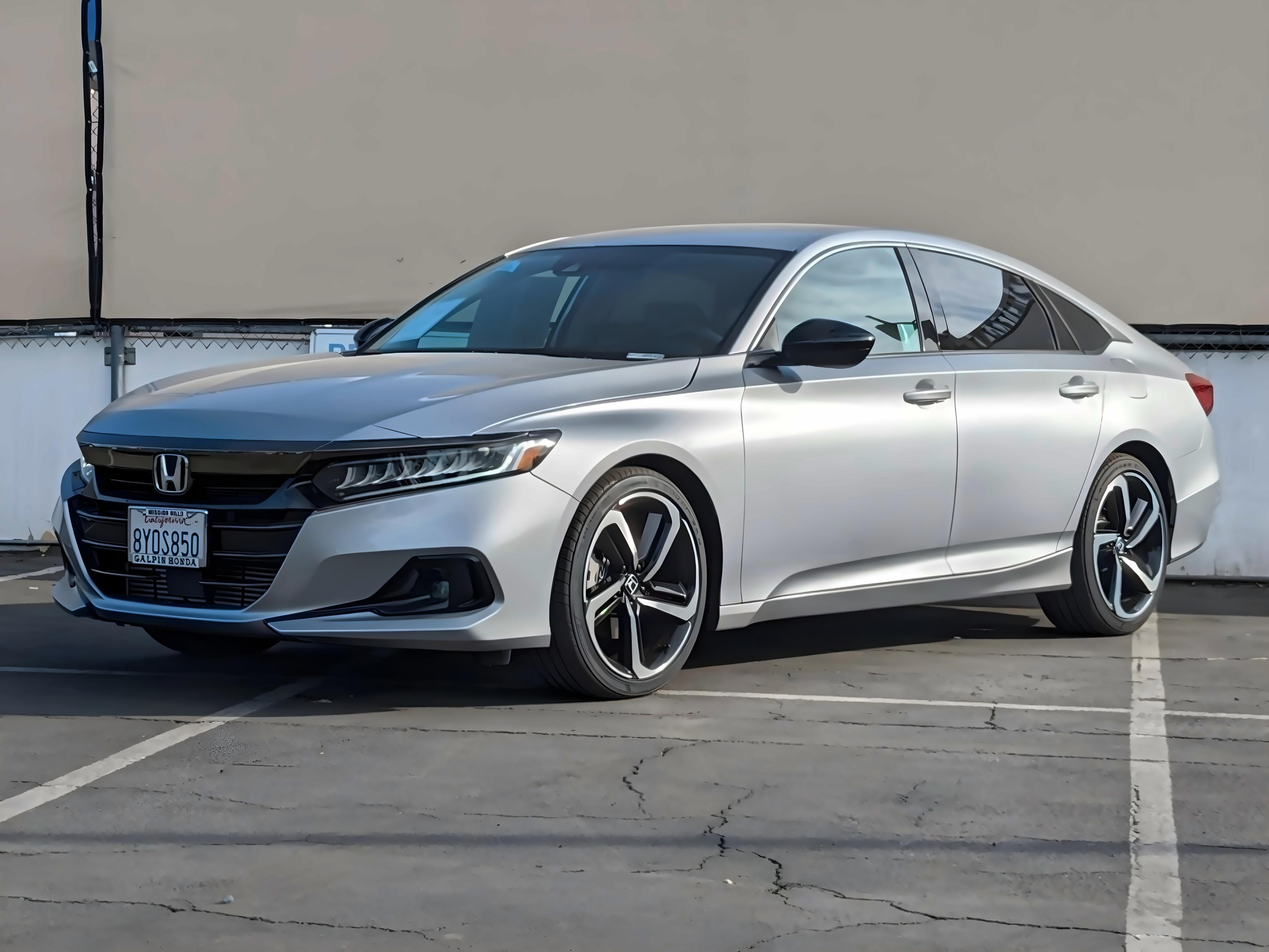Car hood: (75, 346, 699, 451)
Fender - -F-L-: (469, 343, 751, 607)
Fender - -R-L-: (1059, 348, 1207, 555)
Front bumper: (39, 472, 581, 658)
Headlight - -L-: (271, 424, 566, 519)
Headlight - -R-: (50, 430, 116, 509)
Passenger-s door - -F-L-: (747, 236, 956, 605)
Passenger-s door - -R-L-: (928, 239, 1107, 588)
Rear bumper: (1151, 419, 1241, 573)
Rear light - -L-: (1163, 358, 1231, 425)
Side bumper - -L-: (713, 523, 1091, 638)
Side mirror - -L-: (744, 304, 880, 377)
Side mirror - -R-: (347, 301, 401, 366)
